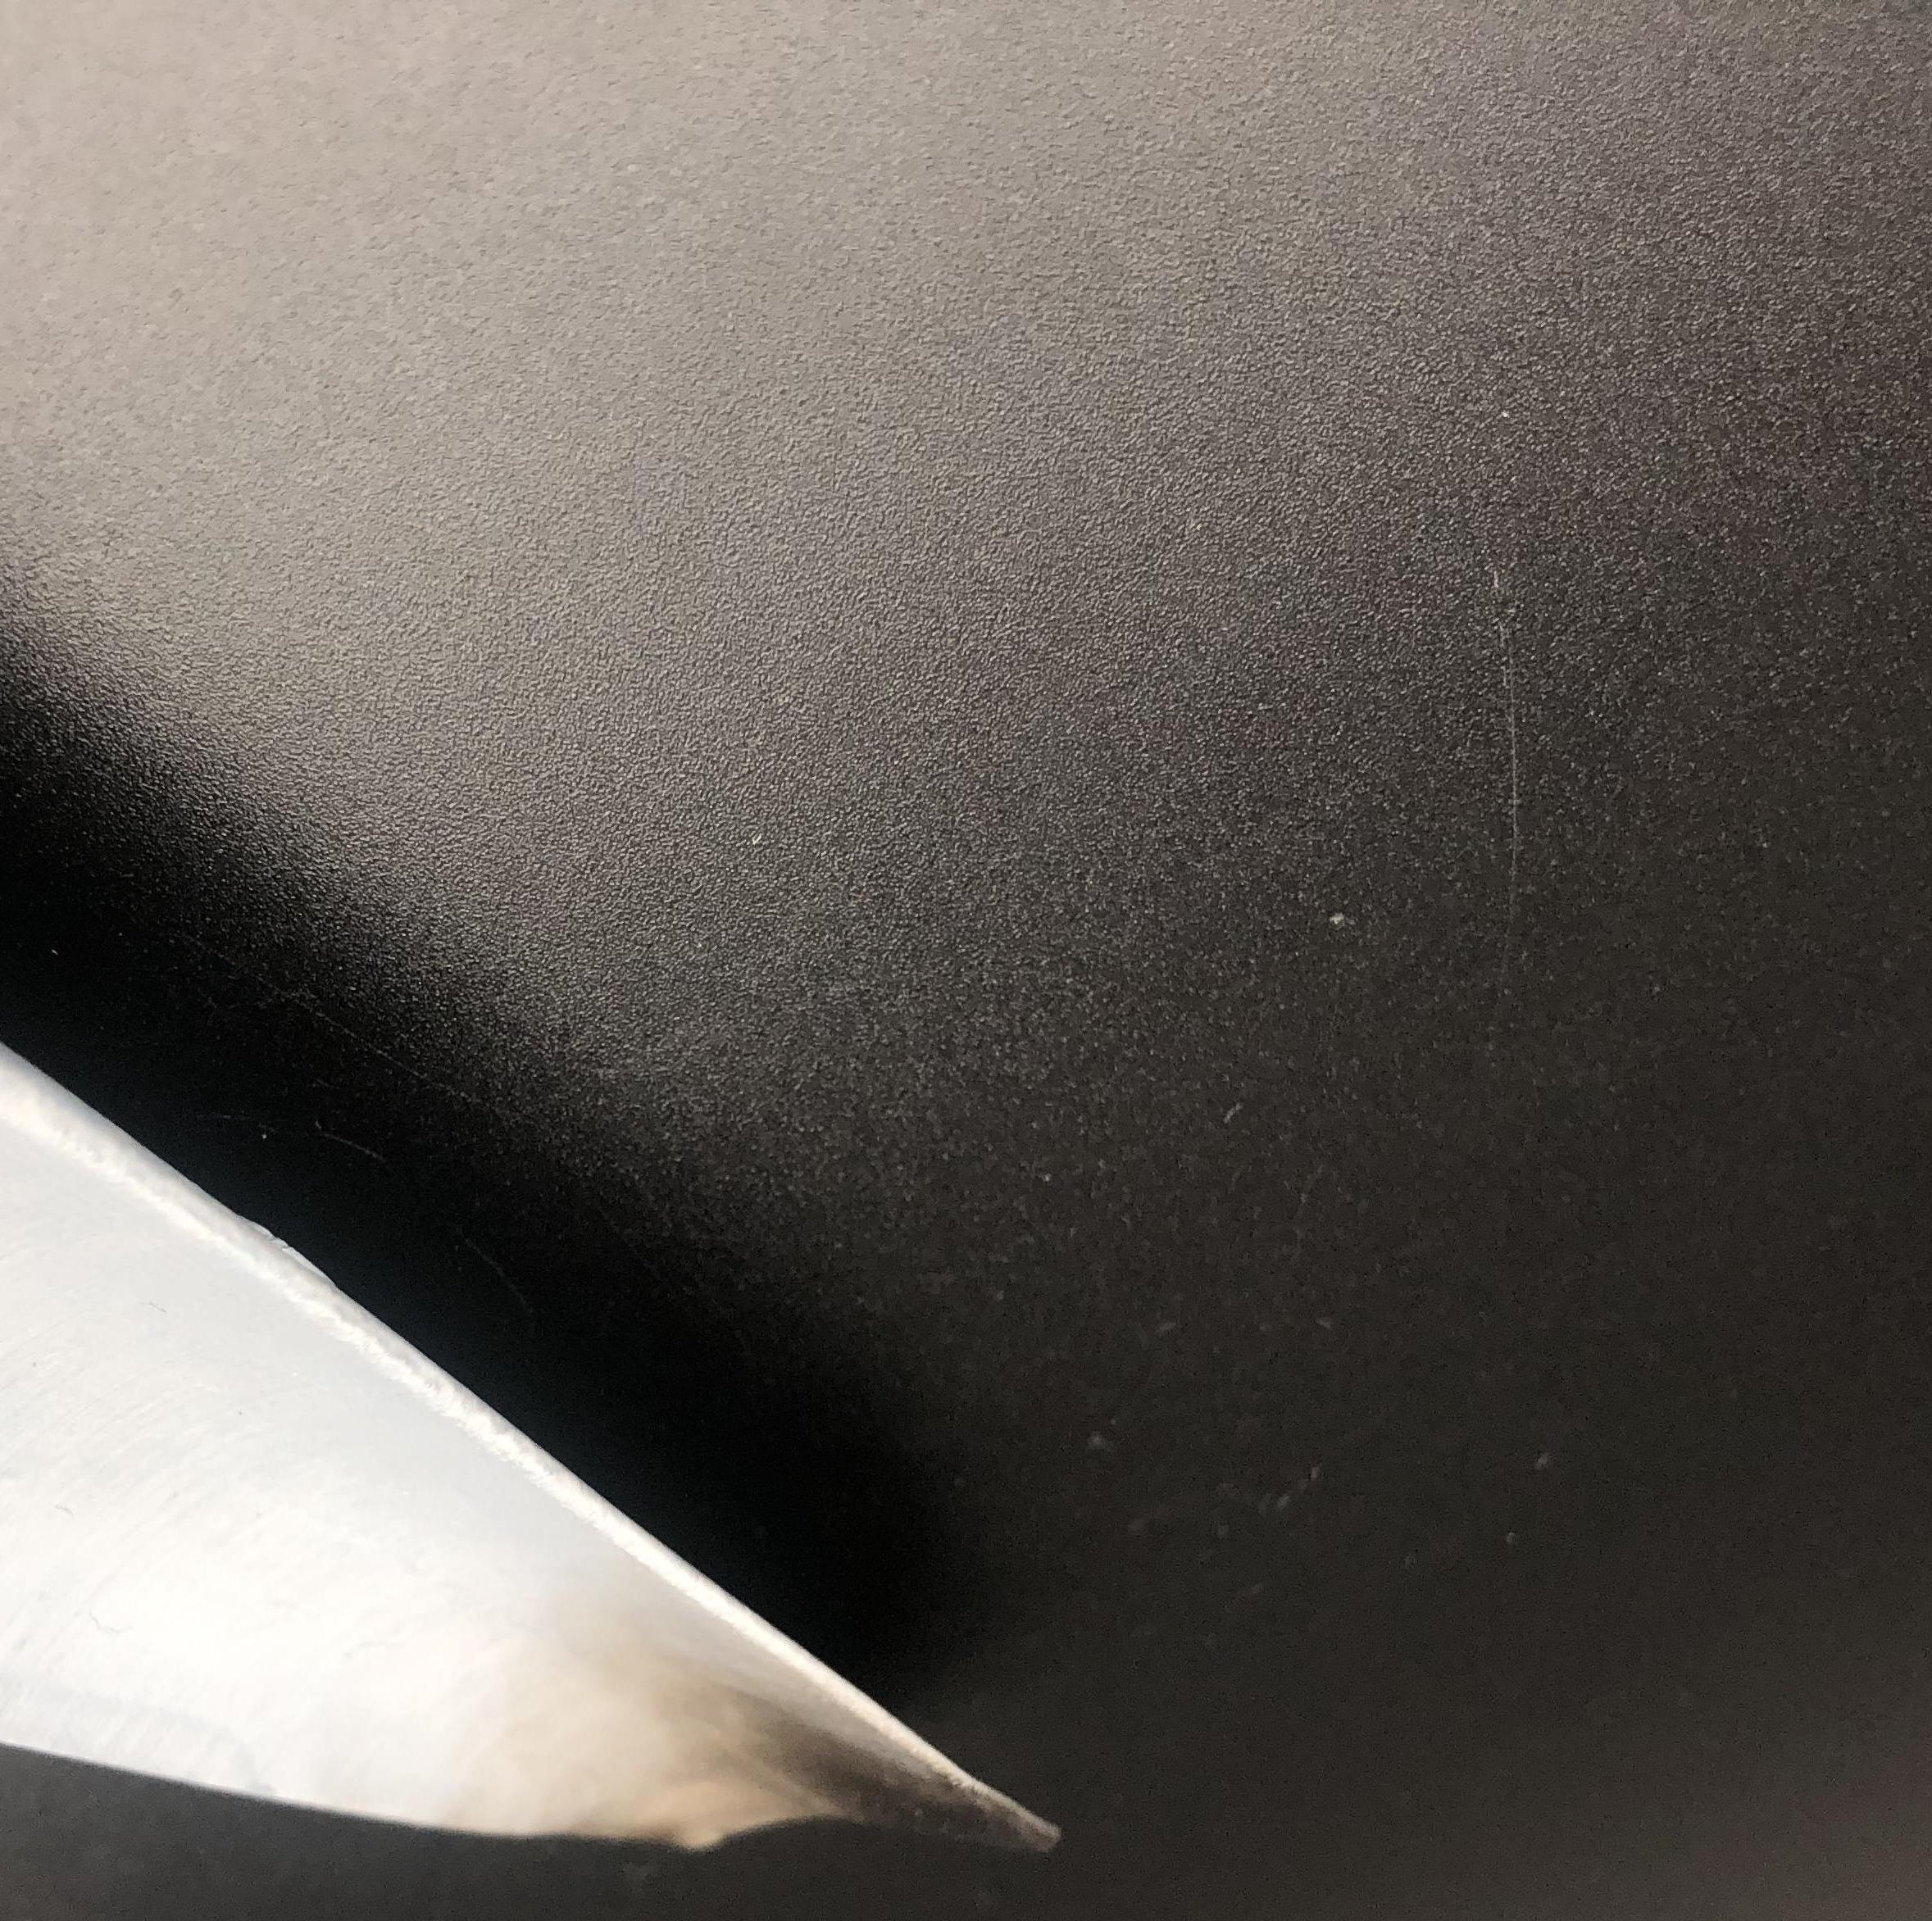ablation: (679, 1673, 957, 1826)
